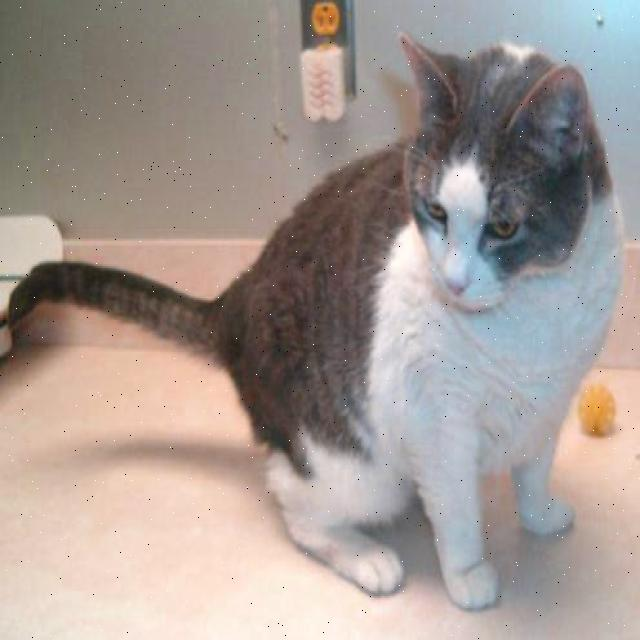Cat: (395, 34, 594, 315)
